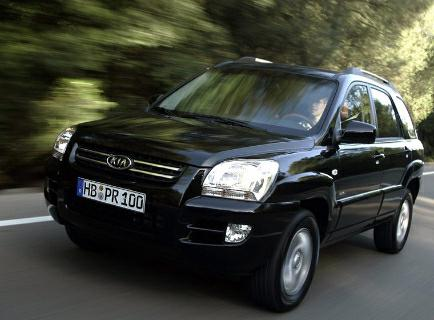起亚-SPORTAGE: (37, 56, 429, 313)
